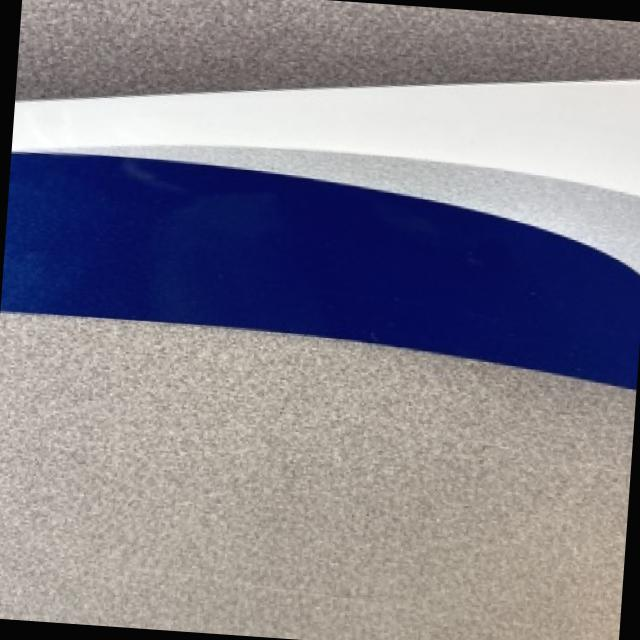healthy: (0, 311, 632, 640), (13, 117, 640, 267)
